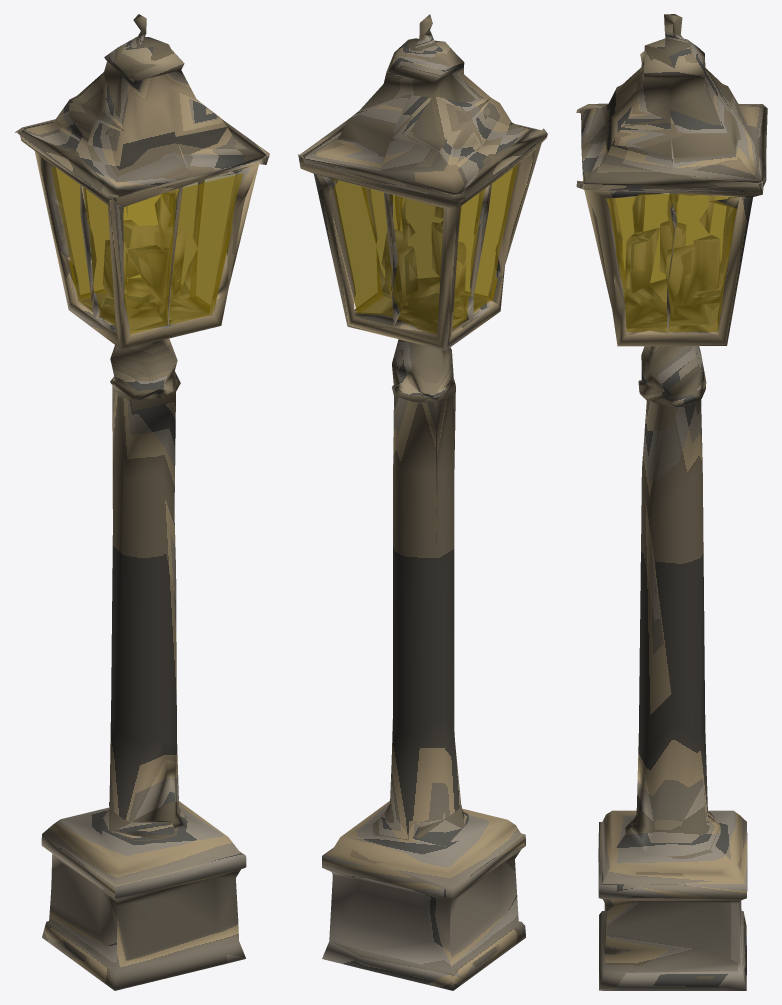
Rendered from lux_lamp.glb.
3 views of the same model, side by side, from view 1: azimuth 30°, elevation 25°; view 2: azimuth 150°, elevation 25°; view 3: azimuth 270°, elevation 25° (orthographic).
Parts seen in each view (by area): view 1: LO, glass; view 2: LO, glass; view 3: LO, glass.
Boxes of the visible parts, bbox=[...] form: LO: bbox=[15, 14, 269, 990]; glass: bbox=[52, 166, 243, 334]; LO: bbox=[298, 14, 547, 990]; glass: bbox=[331, 164, 518, 334]; LO: bbox=[576, 14, 767, 990]; glass: bbox=[606, 193, 739, 331].
Bounding box in the file's own units: 0.6035 × 3.19 × 0.5867.
Materials: 2 (1 with a texture image).
